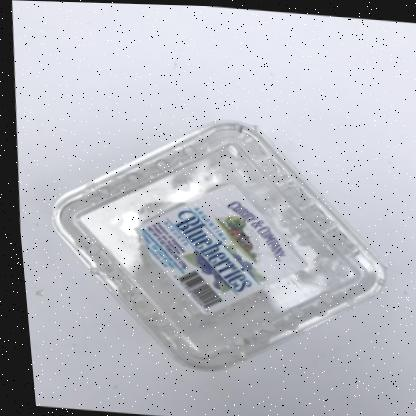Plastic: (46, 120, 379, 370)
